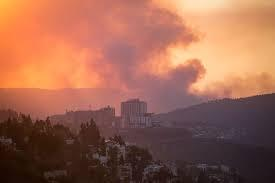yanwu: (0, 1, 220, 111)
